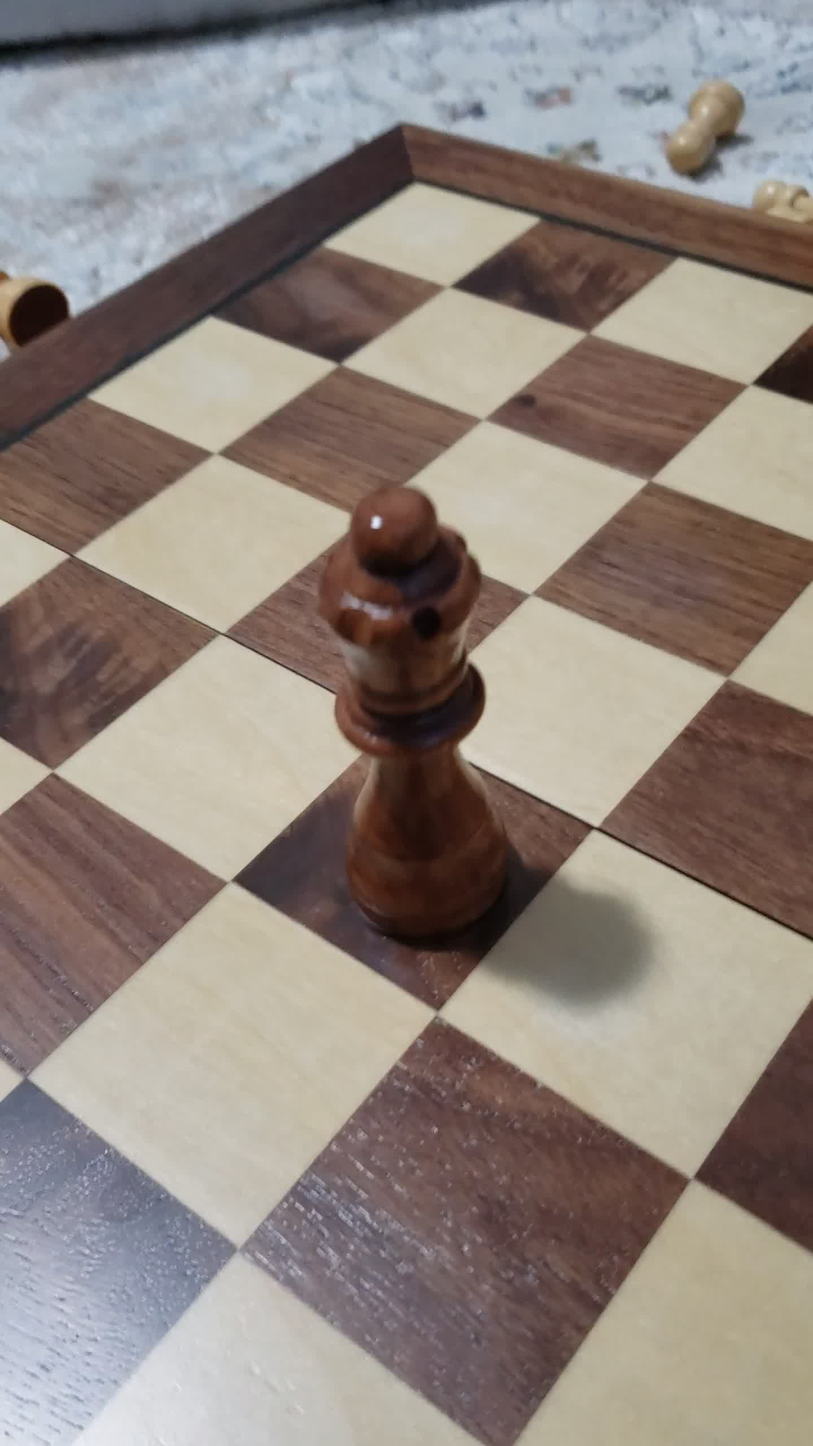black-queen: (288, 461, 532, 962)
